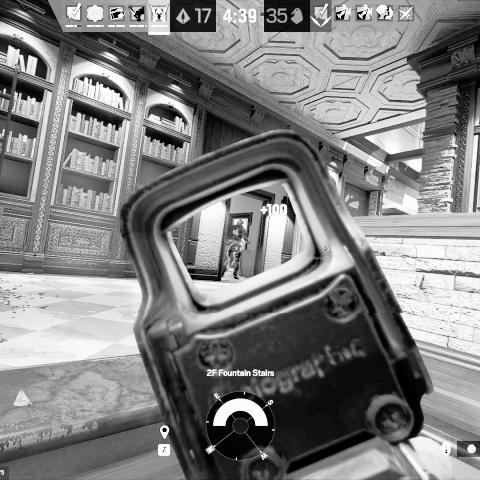Character: (222, 219, 248, 279)
Friend_label: (312, 244, 342, 262), (222, 228, 249, 244)
Head: (235, 219, 244, 229)
